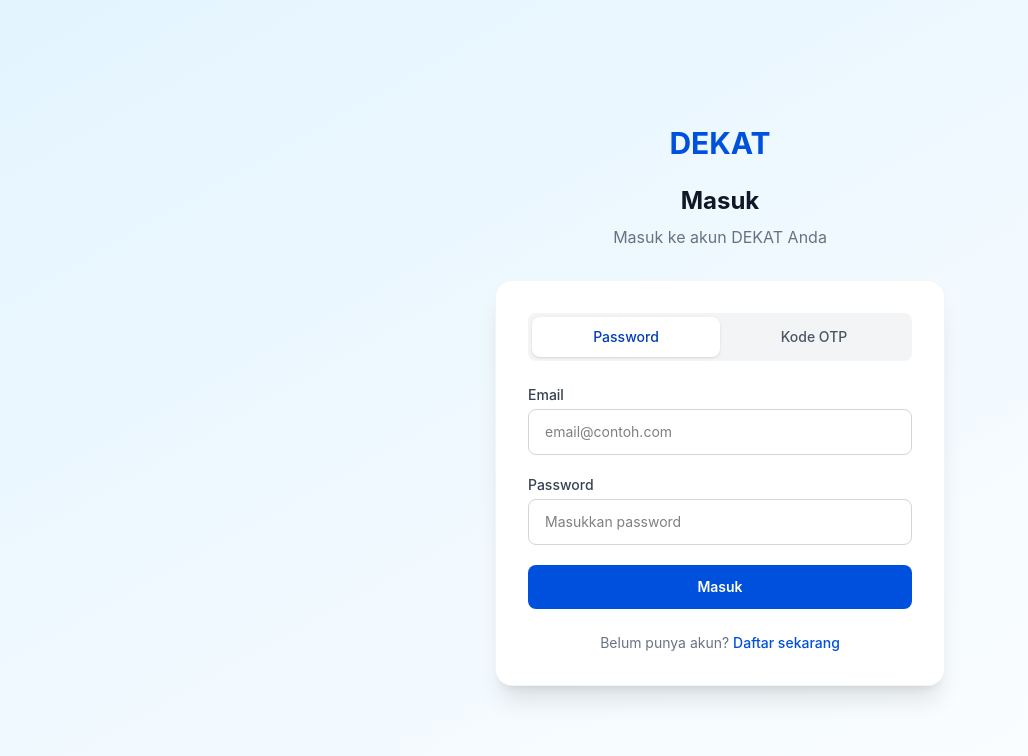
LoginPage › shows error on login failure
Type "user@test.com" into the field labelled "Email" at (720, 432), box left=528, top=409, right=912, bottom=455
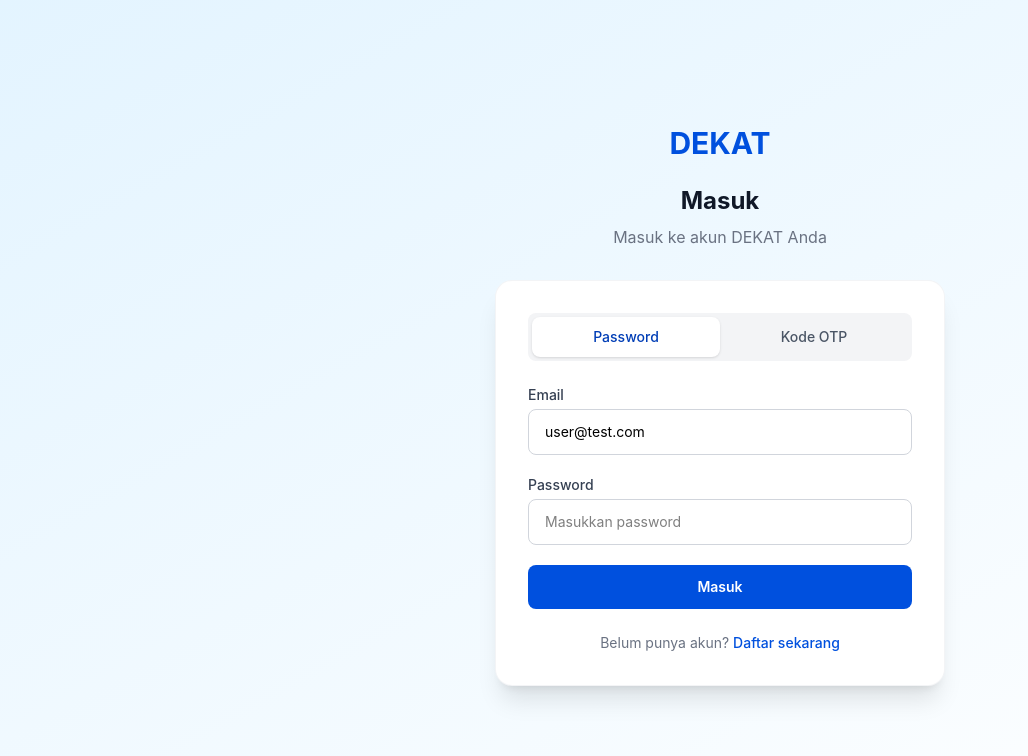
Type "password123" into the password field labelled "Password" at (720, 522), box left=528, top=499, right=912, bottom=545
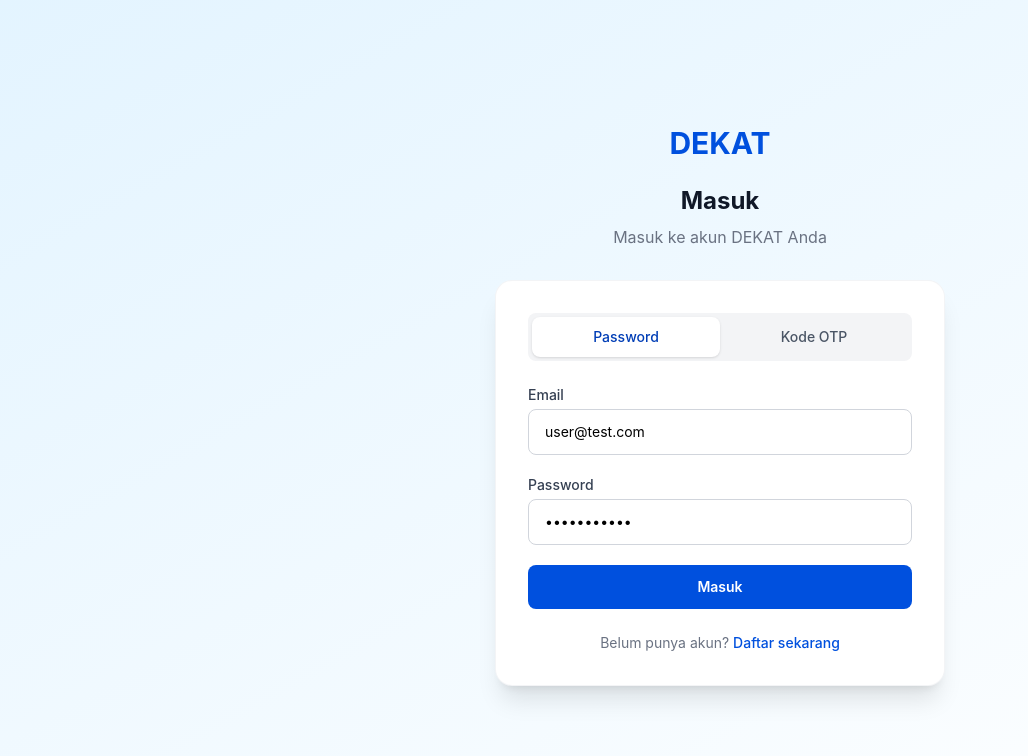
Click the button "Masuk" at (720, 587), box left=528, top=565, right=912, bottom=609
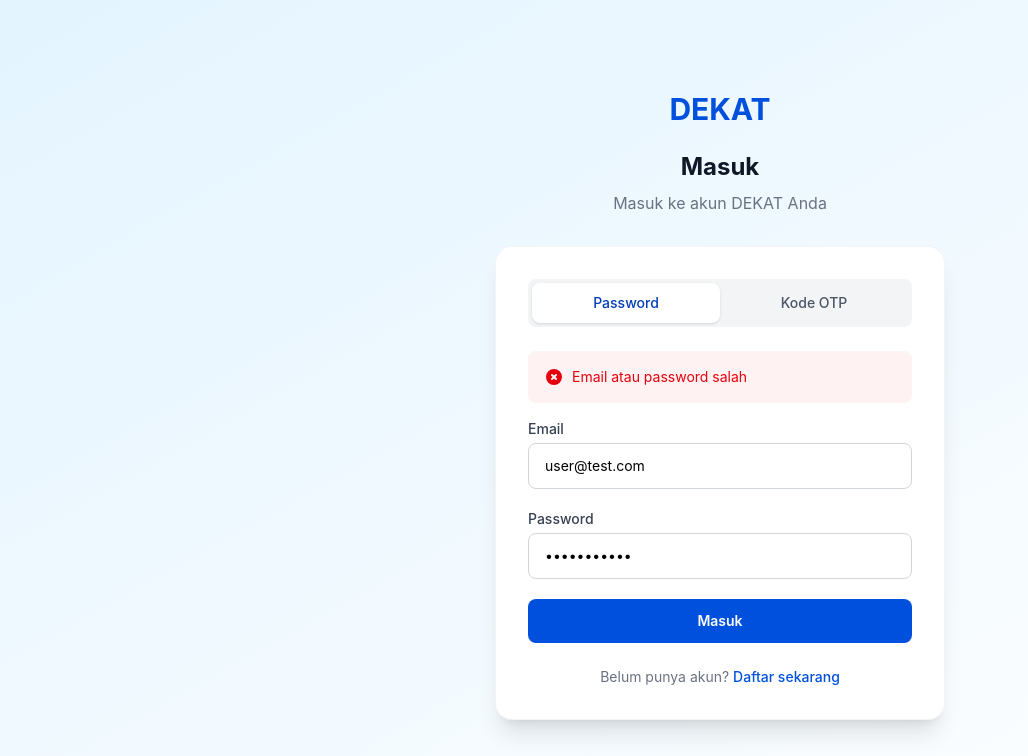
Now the text "Email atau password salah" is shown, box left=544, top=367, right=747, bottom=387
